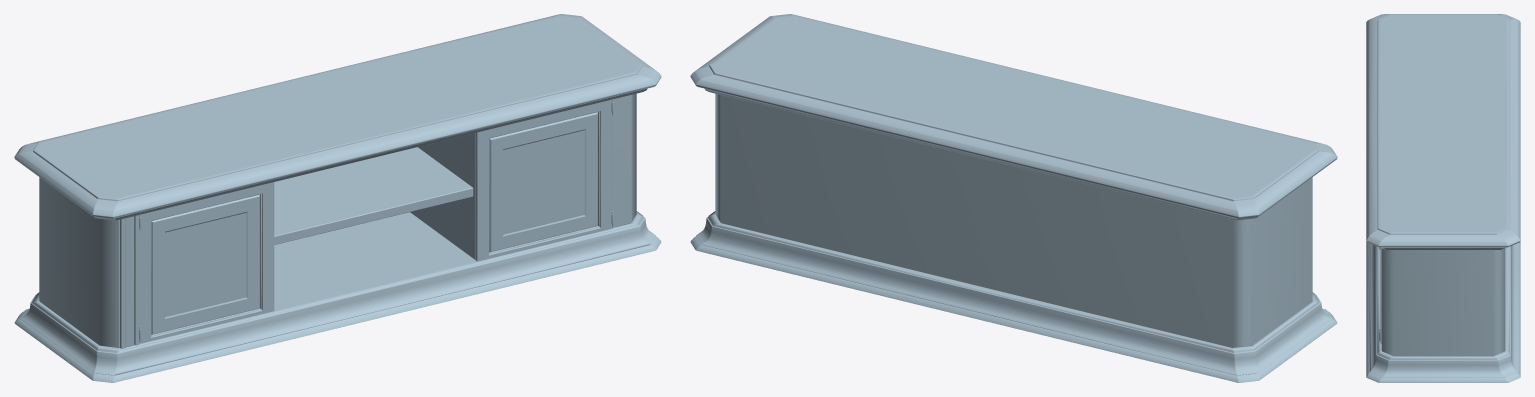
File: TV_Stand_Gen_1.fbx
The picture shows the model from 3 angles, left to right: view 1: azimuth 30°, elevation 25°; view 2: azimuth 150°, elevation 25°; view 3: azimuth 270°, elevation 25°; orthographic projection. The views are drawn at different scales.
Visible parts, largest first — view 1: mesh_TV_stand_gen_1; view 2: mesh_TV_stand_gen_1; view 3: mesh_TV_stand_gen_1.
Part boxes in pixels (x1,y1,x2,y2): mesh_TV_stand_gen_1: (14,14,661,382); mesh_TV_stand_gen_1: (690,14,1337,382); mesh_TV_stand_gen_1: (1366,14,1520,382).
Size of the model in its own units: 246 by 72.46 by 70.
